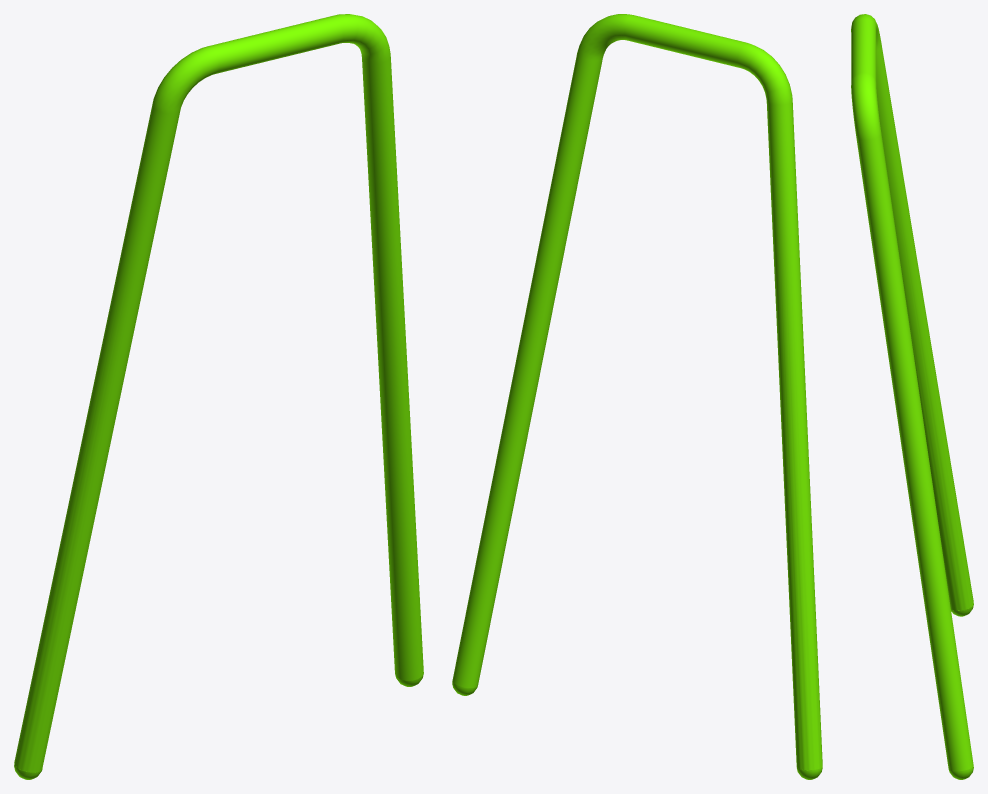
The model's file is chair_026_06.obj.
3 renders of one model, left to right at view 1: azimuth 30°, elevation 25°; view 2: azimuth 150°, elevation 25°; view 3: azimuth 270°, elevation 25°, orthographic. The views are drawn at different scales.
Size of the model in its own units: 427 by 744 by 127.
